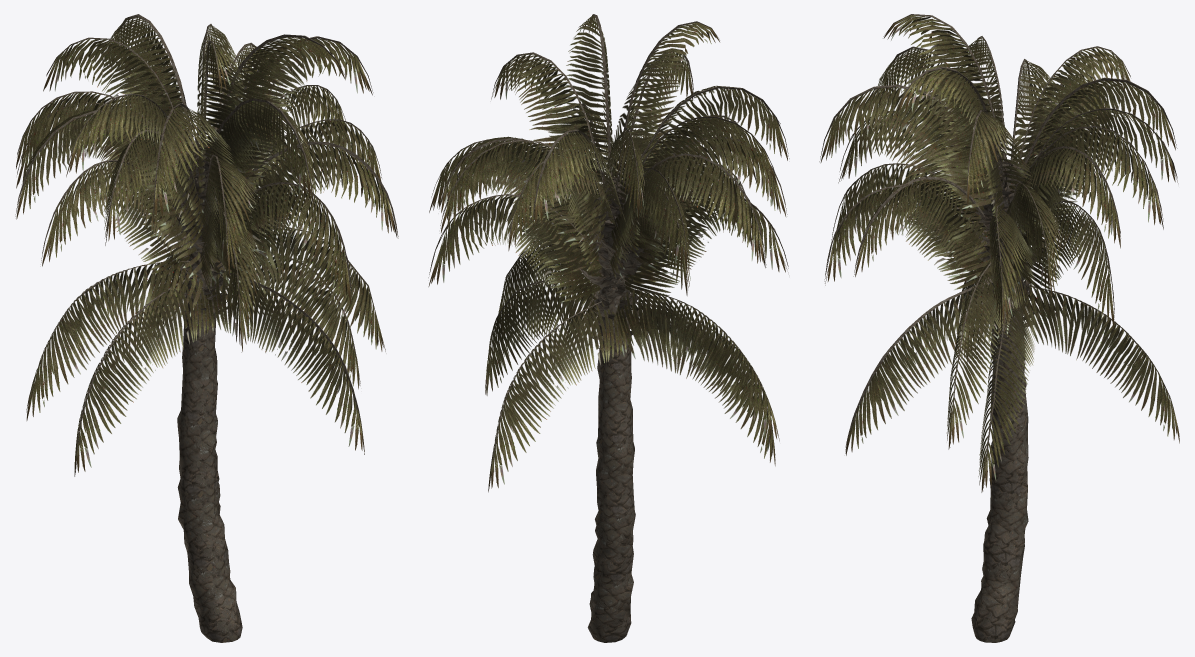
Rendered from weathered_a.glb.
3 views of the same model, side by side, from view 1: azimuth 30°, elevation 25°; view 2: azimuth 150°, elevation 25°; view 3: azimuth 270°, elevation 25° (orthographic). The views are drawn at different scales.
Parts seen in each view (by area): view 1: Palm_tree_001_v2_w; view 2: Palm_tree_001_v2_w; view 3: Palm_tree_001_v2_w.
Part boxes in pixels (x1,y1,x2,y2): Palm_tree_001_v2_w: (15,14,398,642); Palm_tree_001_v2_w: (428,14,789,642); Palm_tree_001_v2_w: (819,14,1179,642).
Bounding box in the file's own units: 7.11 × 12 × 6.55.
Materials: 2 (2 with a texture image).
